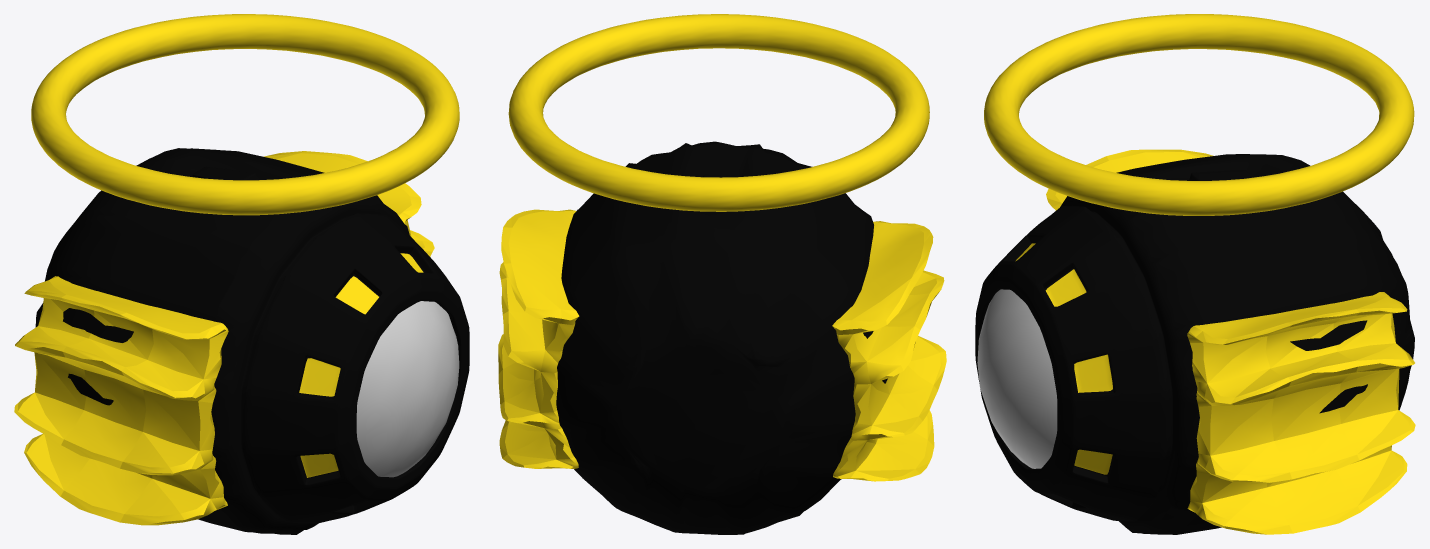
3 views of the same model, side by side, from view 1: azimuth 30°, elevation 25°; view 2: azimuth 150°, elevation 25°; view 3: azimuth 270°, elevation 25° (orthographic). The views are drawn at different scales.
Visible parts, largest first — view 1: Cylinder_2, Cylinder.003, Torus.004, Sphere.007; view 2: Cylinder_2, Cylinder.003, Torus.004; view 3: Cylinder_2, Cylinder.003, Torus.004, Sphere.007.
Boxes of the visible parts, bbox=[...] form: Cylinder_2: bbox=[35, 148, 469, 534]; Cylinder.003: bbox=[14, 151, 434, 525]; Torus.004: bbox=[31, 14, 459, 215]; Sphere.007: bbox=[356, 301, 459, 477]; Cylinder_2: bbox=[556, 141, 887, 534]; Cylinder.003: bbox=[498, 209, 946, 481]; Torus.004: bbox=[508, 14, 929, 211]; Cylinder_2: bbox=[975, 154, 1414, 534]; Cylinder.003: bbox=[1046, 149, 1415, 534]; Torus.004: bbox=[984, 14, 1414, 215]; Sphere.007: bbox=[977, 289, 1057, 468].
Bounding box in the file's own units: 31.52 × 28.86 × 29.65.
